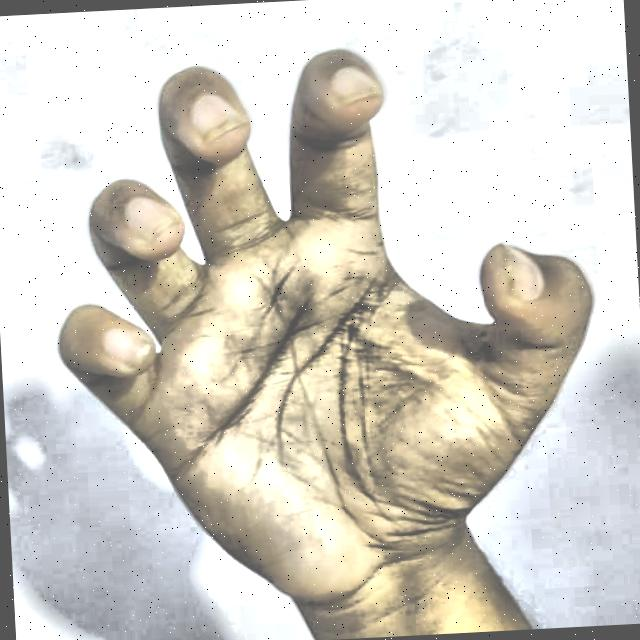Ja: (16, 9, 623, 640)
